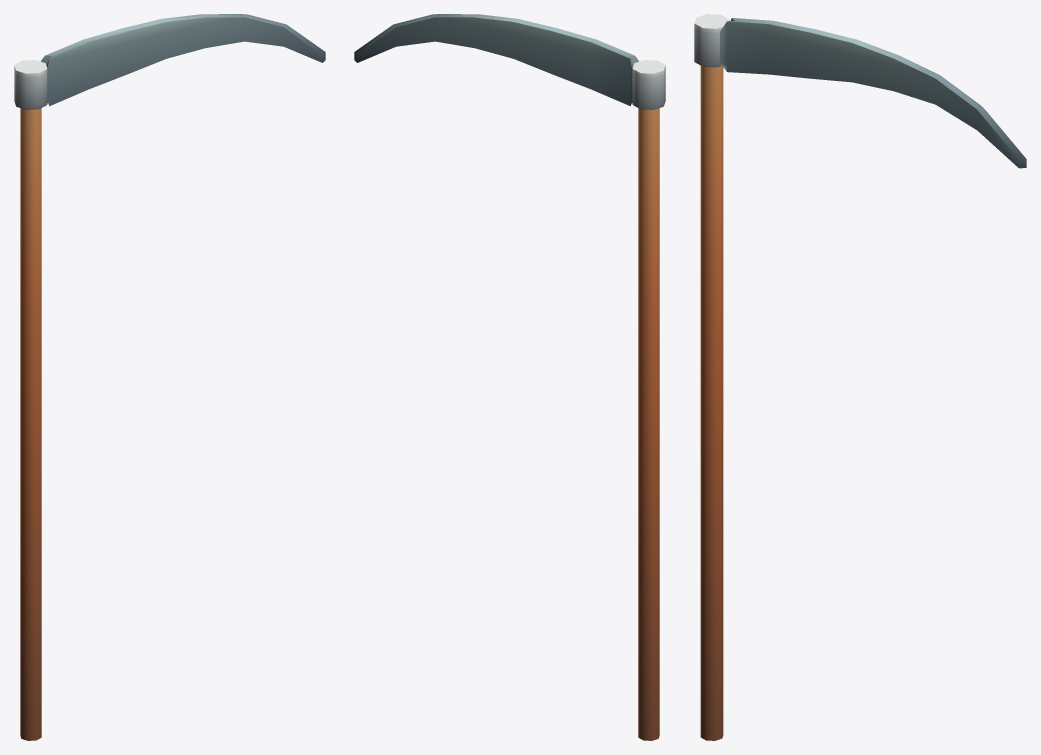
The model's file is Sctyhe.fbx.
3 renders of one model, left to right at view 1: azimuth 30°, elevation 25°; view 2: azimuth 150°, elevation 25°; view 3: azimuth 330°, elevation 25°, orthographic. The views are drawn at different scales.
Visible parts, largest first — view 1: Scythe; view 2: Scythe; view 3: Scythe.
Boxes of the visible parts, x1,y1,x2,y2 form: Scythe: (14,14,325,740); Scythe: (354,14,665,740); Scythe: (694,14,1026,740).
Bounding box in the file's own units: 0.4426 × 0.9343 × 0.0424.
